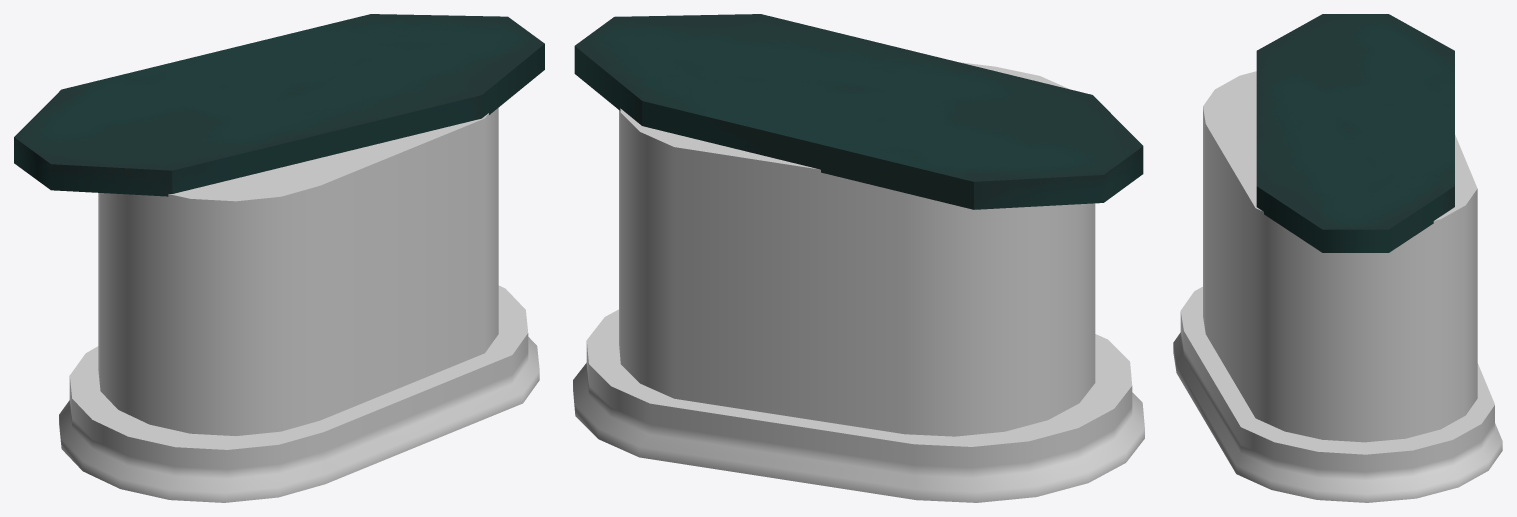
File: CoffeeHopper_model.fbx
3 views of the same model, side by side, from view 1: azimuth 30°, elevation 25°; view 2: azimuth 150°, elevation 25°; view 3: azimuth 270°, elevation 25° (orthographic). The views are drawn at different scales.
Visible parts, largest first — view 1: Cylinder005, Box005, Cylinder006; view 2: Cylinder005, Box005, Cylinder006; view 3: Cylinder005, Box005, Cylinder006.
Boxes of the visible parts, x1,y1,x2,y2 form: Cylinder005: [98, 108, 498, 435]; Box005: [14, 14, 544, 196]; Cylinder006: [59, 285, 539, 502]; Cylinder005: [619, 62, 1095, 436]; Box005: [574, 14, 1143, 209]; Cylinder006: [573, 309, 1144, 502]; Cylinder005: [1203, 71, 1477, 442]; Box005: [1256, 14, 1454, 252]; Cylinder006: [1173, 286, 1502, 502].
Bounding box in the file's own units: 1.94 × 1.16 × 1.26.
Materials: 1 (1 with a texture image).
